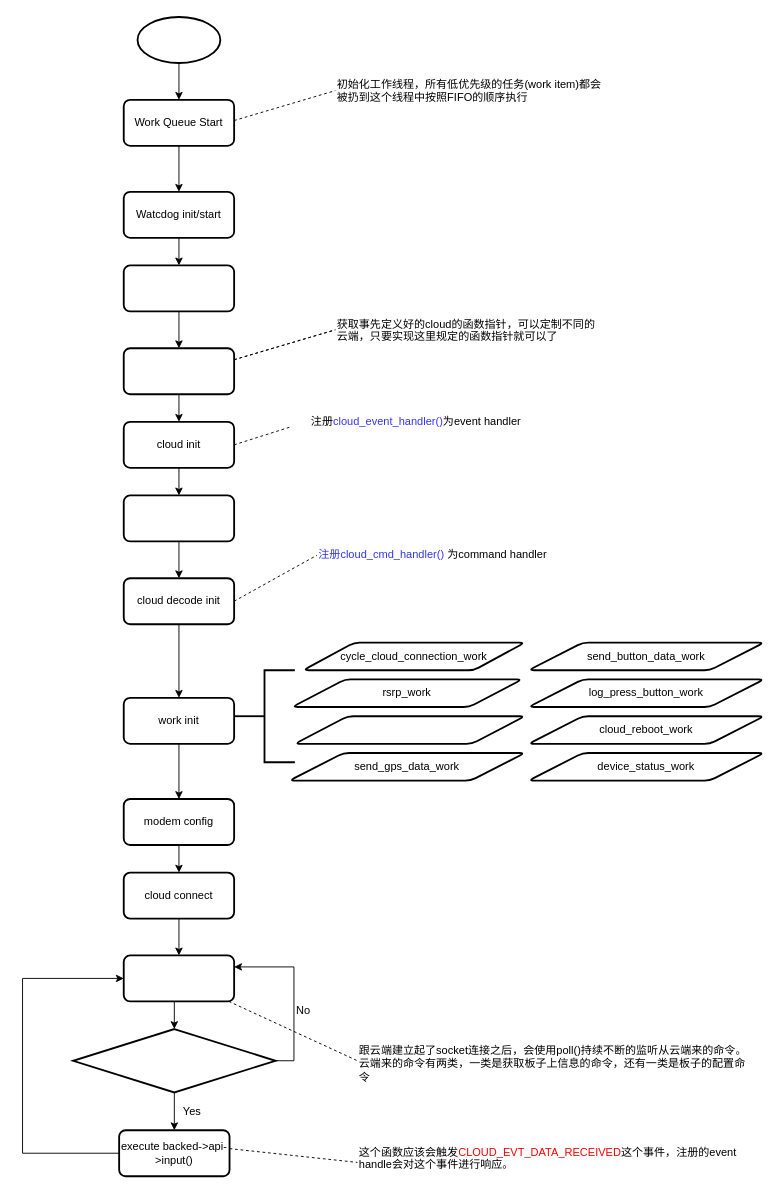
Some shapes in this 781 by 1201 pixel diagram are drawn without their labels. Here are the shapes that lost their labels. From the top down, the box of each, then its label:
(136, 16, 221, 63): Start
(122, 264, 235, 312): bsdlib init
(122, 347, 235, 395): cloud binding
(122, 494, 235, 542): ui init
(293, 715, 525, 744): connect_work
(122, 954, 235, 1002): poll from cloud
(72, 1028, 276, 1093): Data received from cloud?
